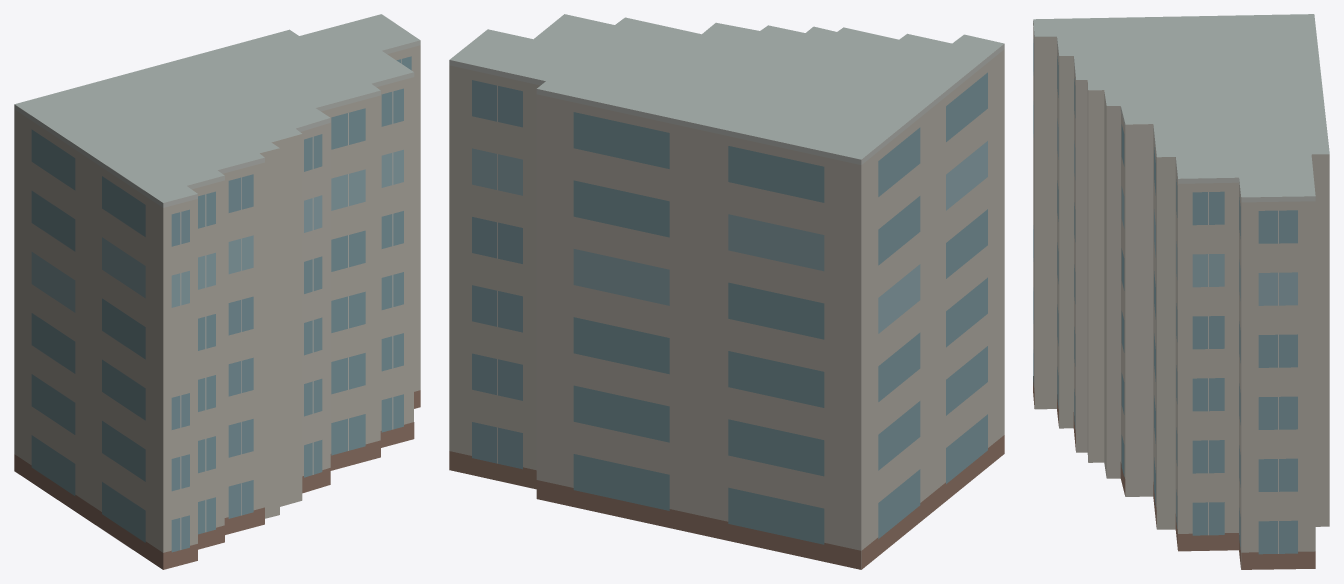
Rendered from survey-upis-32950460.glb.
3 views of the same model, side by side, from view 1: azimuth 30°, elevation 25°; view 2: azimuth 150°, elevation 25°; view 3: azimuth 270°, elevation 25° (orthographic). The views are drawn at different scales.
Parts seen in each view (by area): view 1: survey-upis-32950460.tmp; view 2: survey-upis-32950460.tmp; view 3: survey-upis-32950460.tmp.
Part boxes in pixels (x1,y1,x2,y2): survey-upis-32950460.tmp: [14, 14, 420, 569]; survey-upis-32950460.tmp: [449, 14, 1004, 569]; survey-upis-32950460.tmp: [1033, 14, 1329, 569].
Bounding box in the file's own units: 19.34 × 18.3 × 13.22.
